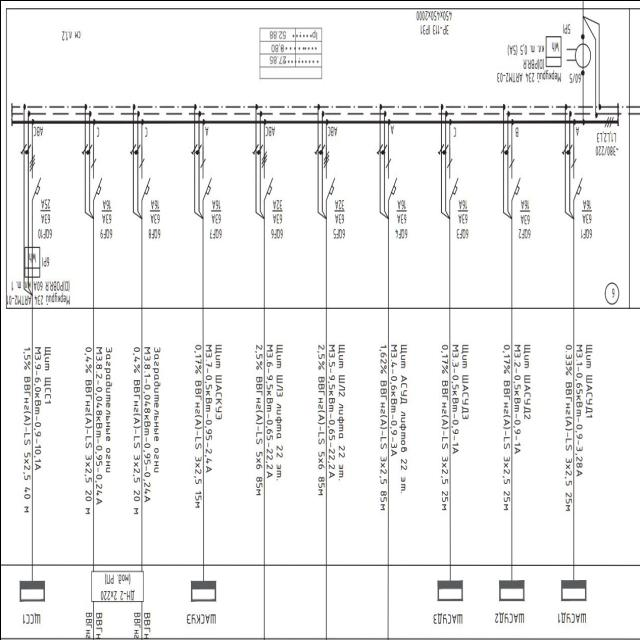-: (5, 278, 70, 307), (413, 8, 452, 38), (564, 66, 584, 88), (209, 198, 222, 225), (148, 197, 160, 225), (38, 196, 50, 224), (270, 197, 282, 225), (579, 197, 591, 225), (518, 198, 530, 226), (334, 197, 346, 225), (395, 197, 407, 224), (100, 197, 112, 224), (456, 197, 468, 224)
QF: (260, 150, 274, 206), (322, 149, 336, 203), (28, 153, 42, 201), (200, 156, 213, 202), (138, 156, 151, 202), (570, 156, 583, 202), (446, 156, 458, 202), (508, 158, 520, 204), (90, 155, 102, 201), (384, 155, 396, 201)
TT: (564, 42, 590, 70)
WH: (544, 34, 562, 68), (22, 245, 40, 279)
